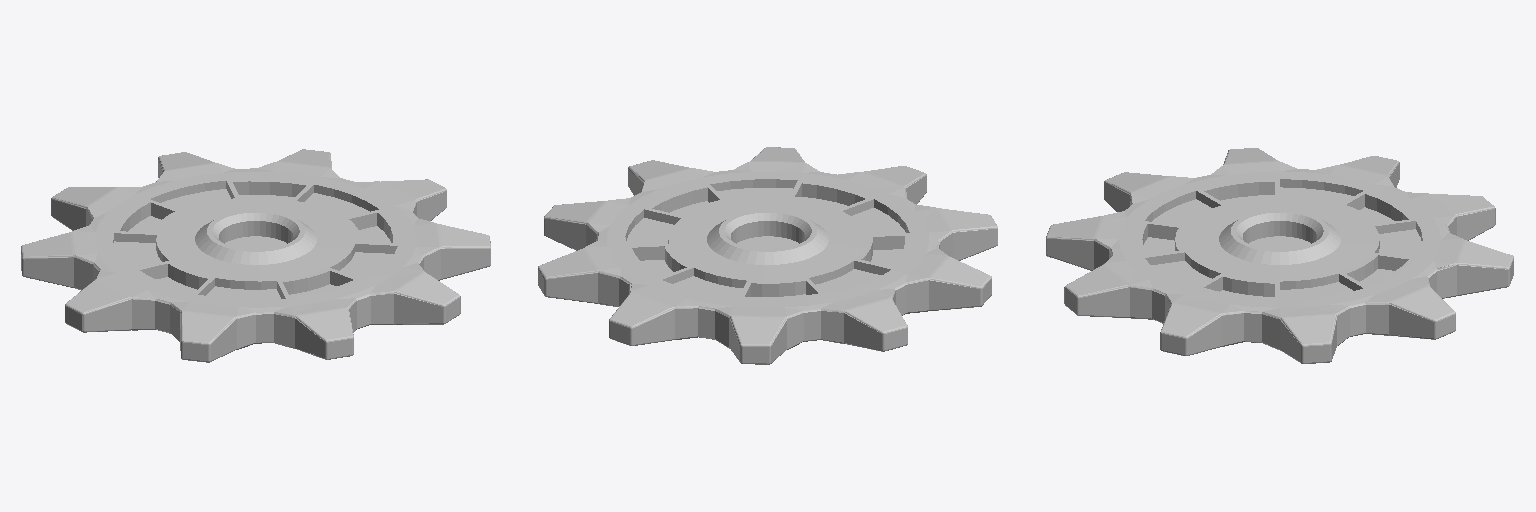
File: gears3.obj
3 views of the same model, side by side, from view 1: azimuth 30°, elevation 25°; view 2: azimuth 150°, elevation 25°; view 3: azimuth 270°, elevation 25° (orthographic).
Visible parts, largest first — view 1: Gear3; view 2: Gear3; view 3: Gear3.
Boxes of the visible parts, x1,y1,x2,y2 form: Gear3: [21, 149, 490, 362]; Gear3: [538, 147, 997, 364]; Gear3: [1046, 148, 1513, 363].
Bounding box in the file's own units: 6.29 × 0.74 × 6.29.